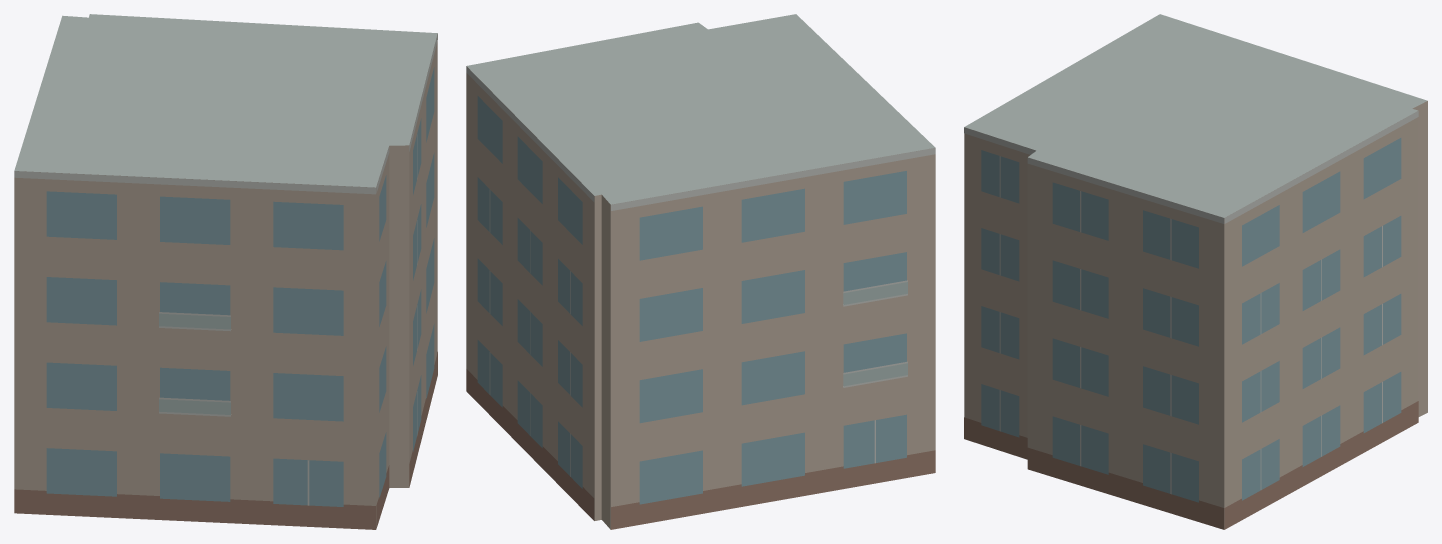
The model's file is survey-upis-32670219.glb.
3 views of the same model, side by side, from view 1: azimuth 30°, elevation 25°; view 2: azimuth 150°, elevation 25°; view 3: azimuth 270°, elevation 25° (orthographic). The views are drawn at different scales.
Parts seen in each view (by area): view 1: survey-upis-32670219.tmp; view 2: survey-upis-32670219.tmp; view 3: survey-upis-32670219.tmp.
Boxes of the visible parts, box(x1,y1,x2,y2) form: survey-upis-32670219.tmp: box(14, 14, 437, 529); survey-upis-32670219.tmp: box(466, 14, 935, 529); survey-upis-32670219.tmp: box(964, 14, 1427, 529).
Size of the model in its own units: 17.12 by 12.2 by 16.45.
